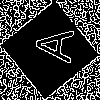A: (25, 25, 74, 64)
